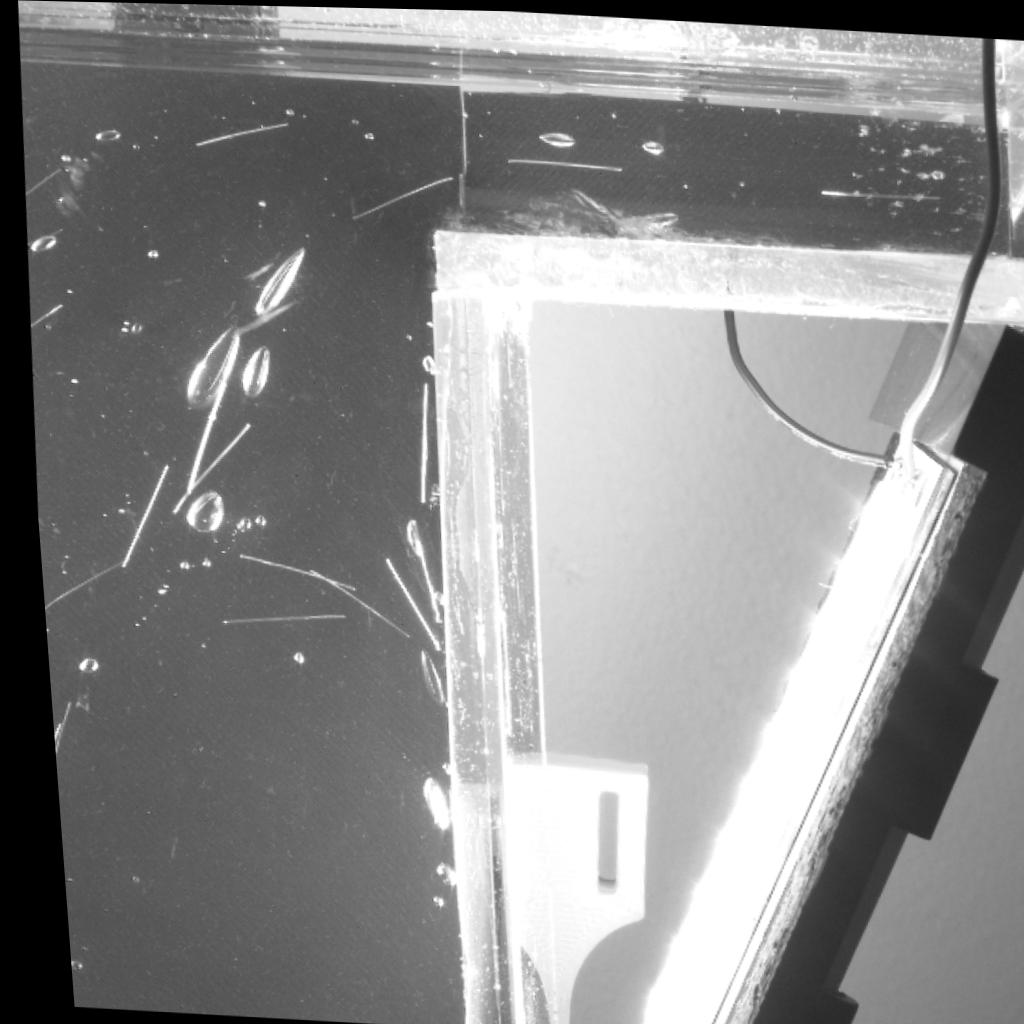Fiber: (175, 337, 242, 498), (160, 422, 248, 514), (295, 563, 400, 637), (374, 553, 436, 656), (110, 461, 162, 568), (224, 551, 348, 593), (351, 170, 453, 218), (35, 556, 117, 612), (403, 518, 435, 625), (191, 119, 288, 147), (406, 379, 425, 504), (214, 610, 336, 626), (504, 154, 624, 170), (820, 184, 939, 197), (43, 697, 62, 761), (22, 166, 58, 197), (27, 302, 60, 330)
